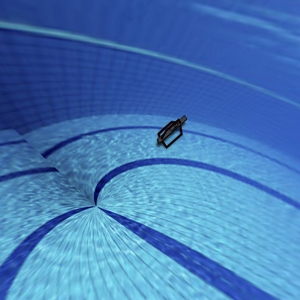submarine: (137, 105, 199, 156)
